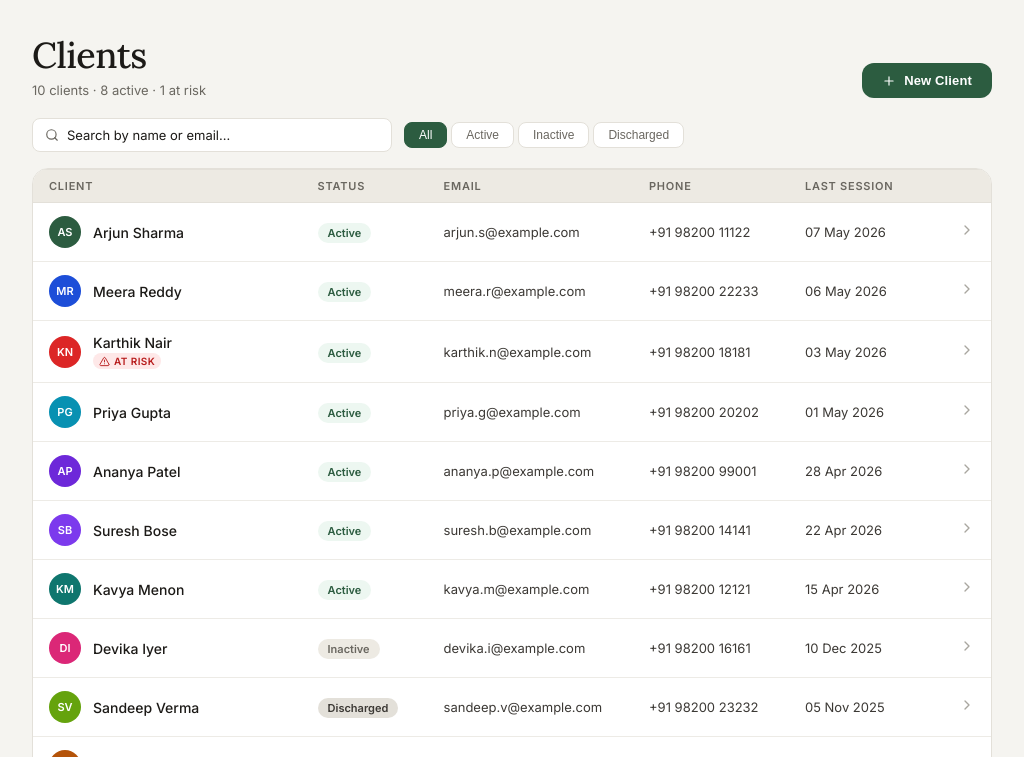
Scenario: <Clients> page › status filter narrows to Inactive
Click the button "Inactive" at [554, 135], box top-left (518, 122), bottom-right (589, 148)
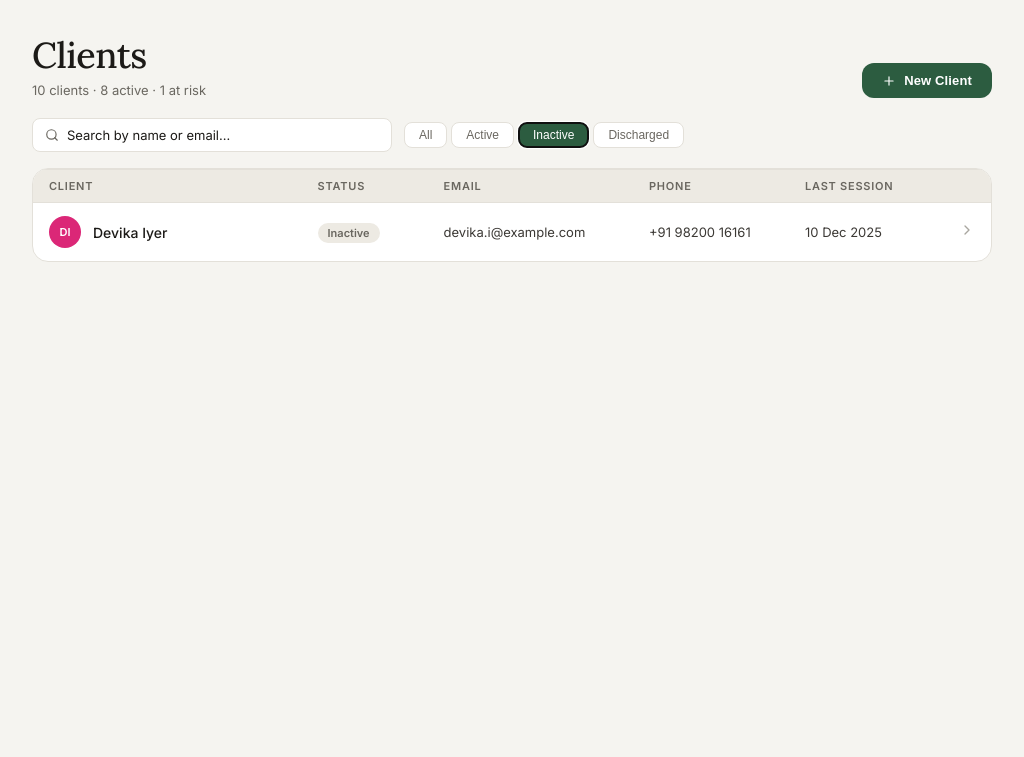
Check: the text "Devika Iyer" is shown, box top-left (93, 224), bottom-right (168, 240)
Check: the button "Arjun Sharma" is gone
